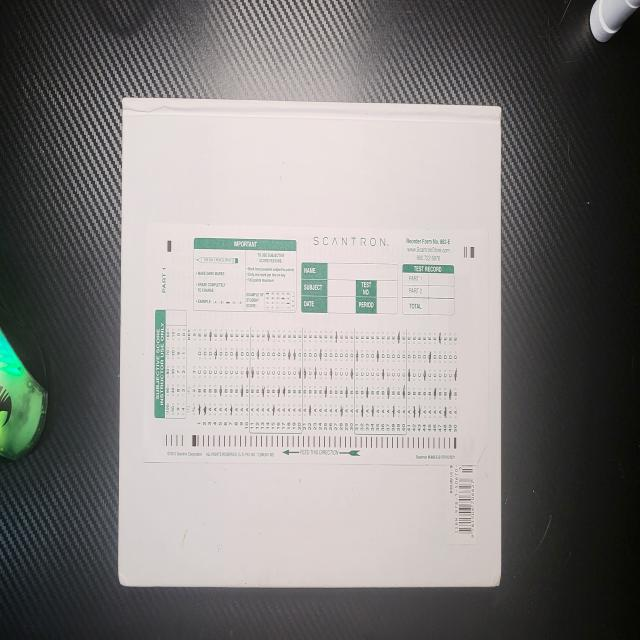scantron: (142, 221, 489, 465)
